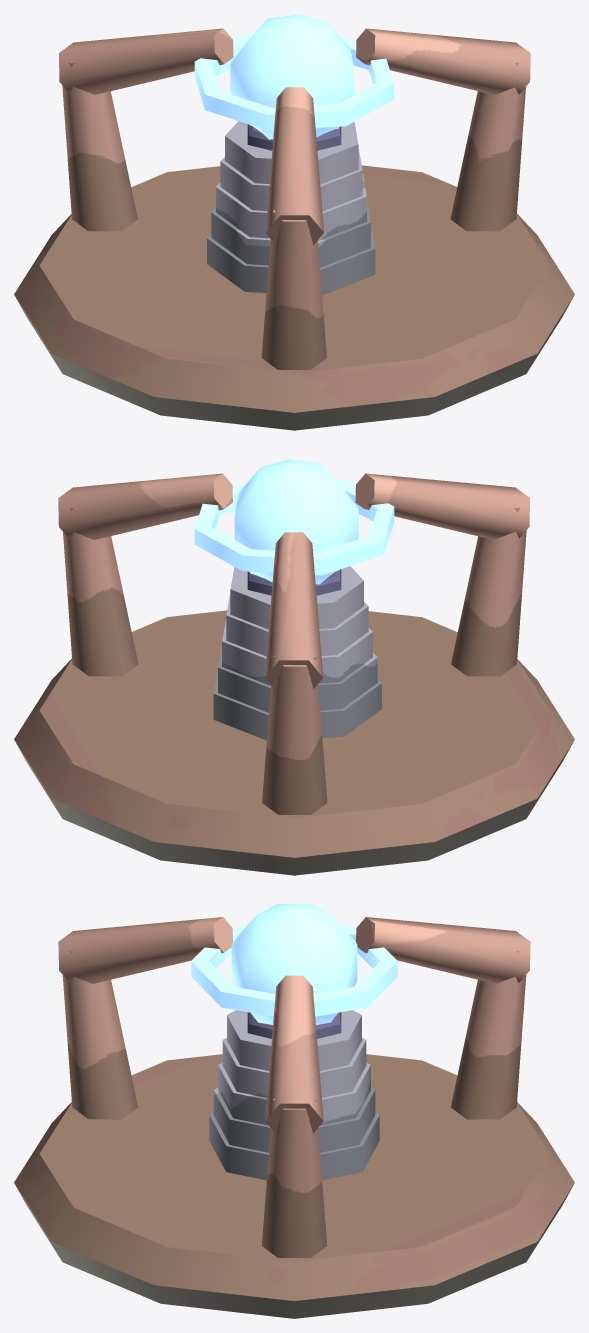
The model's file is R4D_EMPTrap_LOD1.glb.
The picture shows the model from 3 angles, top to bottom: view 1: azimuth 30°, elevation 25°; view 2: azimuth 150°, elevation 25°; view 3: azimuth 270°, elevation 25°; orthographic projection.
Visible parts, largest first — view 1: R4D_EMPTrap_LOD1; view 2: R4D_EMPTrap_LOD1; view 3: R4D_EMPTrap_LOD1.
Boxes of the visible parts, x1,y1,x2,y2 form: R4D_EMPTrap_LOD1: (14,14,574,430); R4D_EMPTrap_LOD1: (14,459,574,875); R4D_EMPTrap_LOD1: (14,904,574,1318).
Size of the model in its own units: 0.44 by 0.2581 by 0.44.
Materials: 5 (4 with a texture image).
